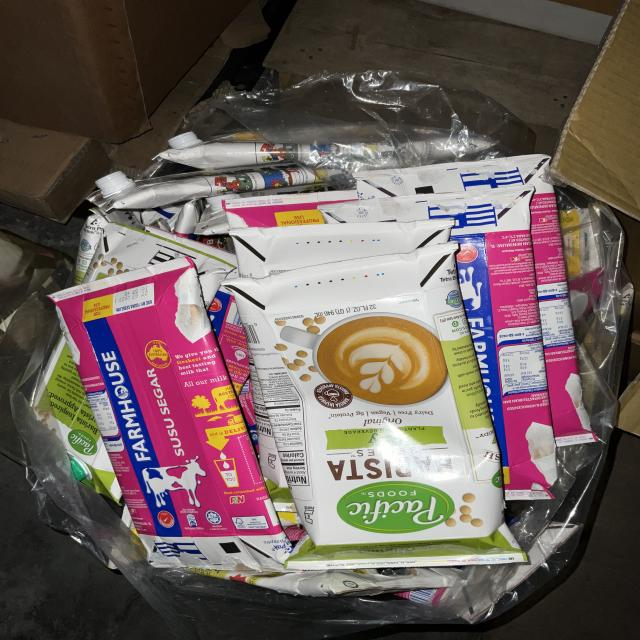cardboard: (230, 152, 588, 566), (48, 217, 290, 570), (89, 125, 360, 232)
